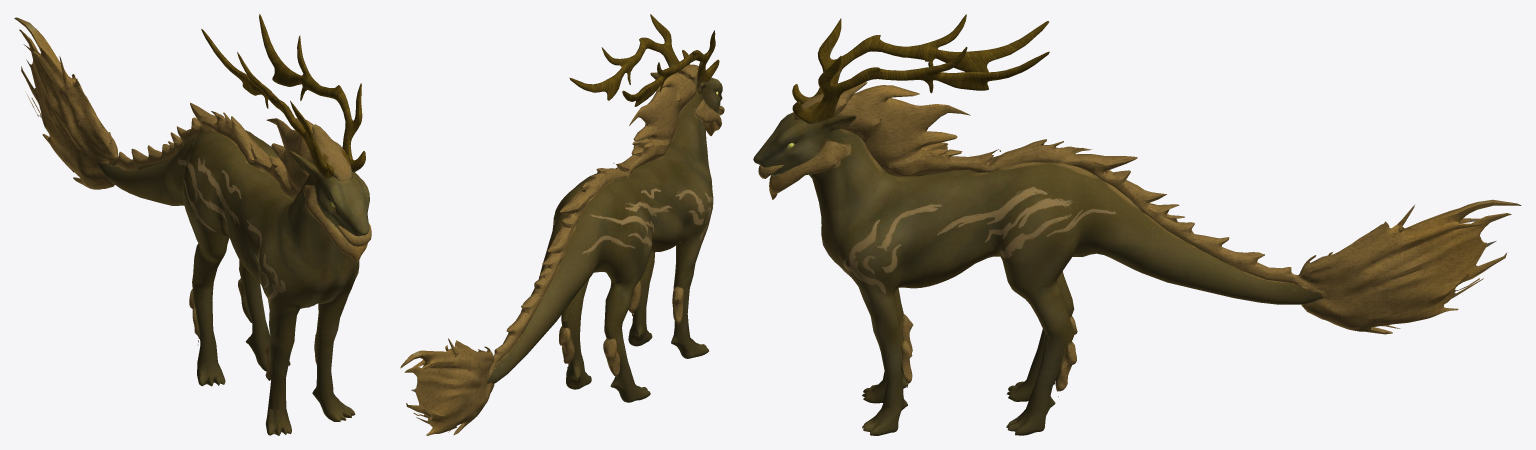
The model's file is Unicorn.gltf.
3 renders of one model, left to right at view 1: azimuth 30°, elevation 25°; view 2: azimuth 150°, elevation 25°; view 3: azimuth 270°, elevation 25°, orthographic. The views are drawn at different scales.
Parts seen in each view (by area): view 1: g; view 2: g; view 3: g.
Boxes of the visible parts, x1,y1,x2,y2 form: g: (14,14,371,435); g: (400,14,724,435); g: (753,14,1521,435).
Size of the model in its own units: 0.3042 by 1.11 by 2.
Materials: 1 (1 with a texture image).
